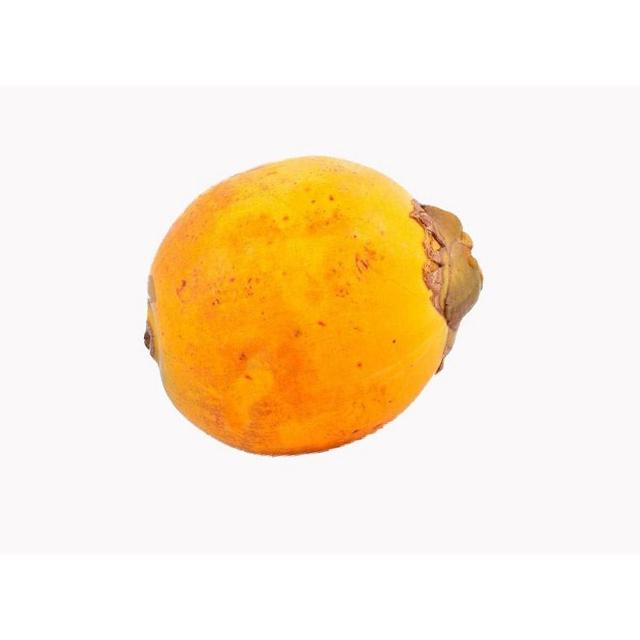good: (143, 156, 482, 459)
